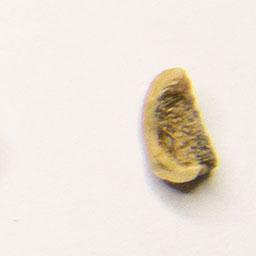defect: (135, 63, 227, 202)
